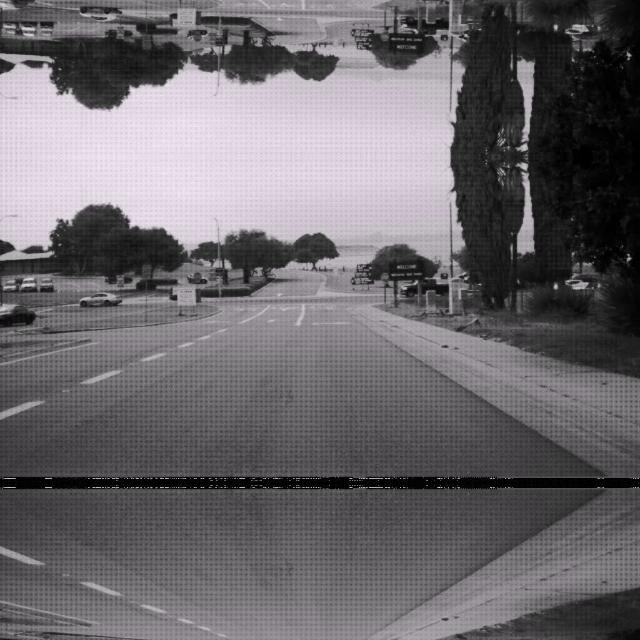stop: (380, 271, 390, 281), (380, 31, 390, 41), (192, 270, 200, 280), (192, 32, 200, 42)
